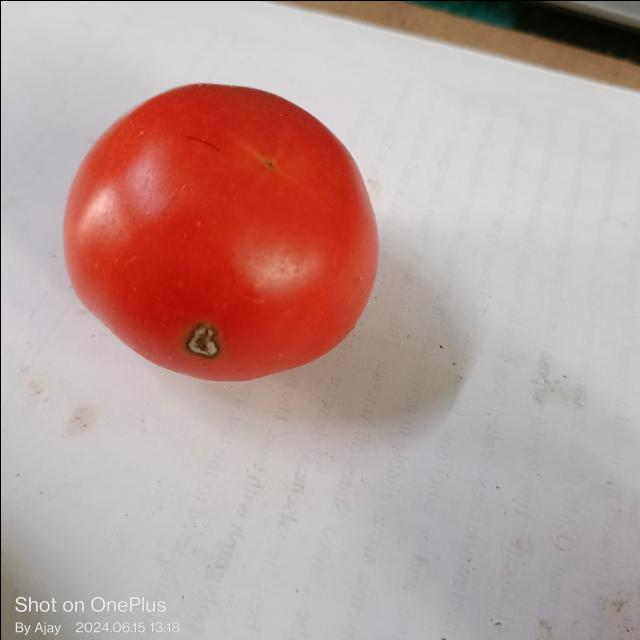Bacterial_Spot: (186, 321, 222, 357)
